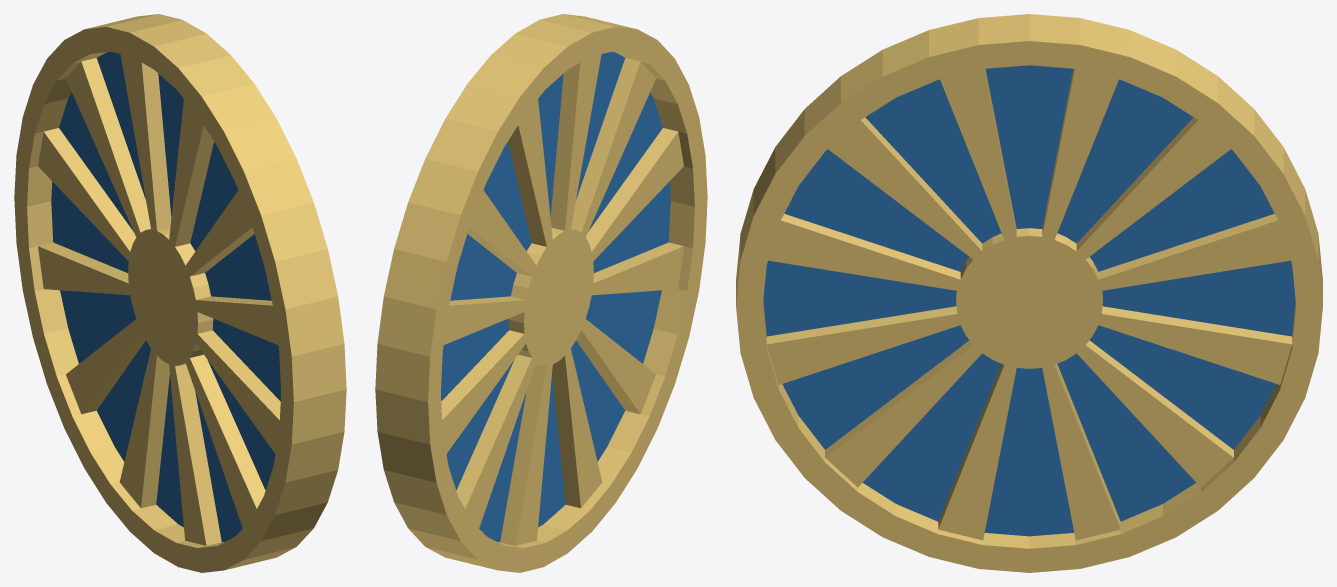
The picture shows the model from 3 angles, left to right: view 1: azimuth 30°, elevation 25°; view 2: azimuth 150°, elevation 25°; view 3: azimuth 270°, elevation 25°; orthographic projection. The views are drawn at different scales.
Parts seen in each view (by area): view 1: 50; view 2: 50; view 3: 50.
Part boxes in pixels (x1,y1,x2,y2): 50: (14,14,346,572); 50: (375,14,707,572); 50: (736,14,1322,572).
Size of the model in its own units: 21.8 by 200 by 200.
